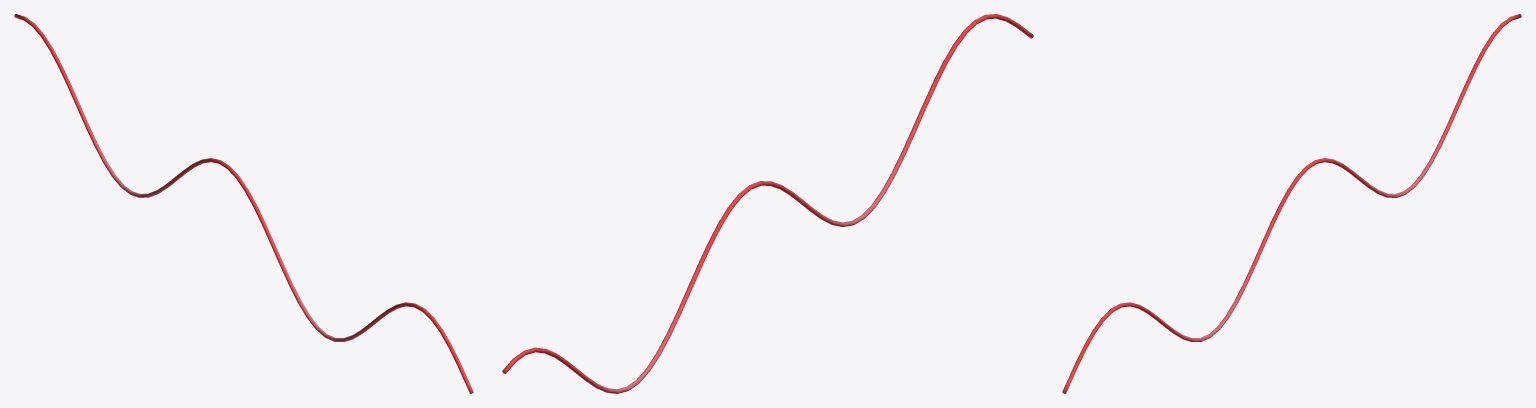
Rendered from Microwaves-final.glb.
3 renders of one model, left to right at view 1: azimuth 30°, elevation 25°; view 2: azimuth 150°, elevation 25°; view 3: azimuth 330°, elevation 25°, orthographic. The views are drawn at different scales.
Parts seen in each view (by area): view 1: Radio.002; view 2: Radio.002; view 3: Radio.002.
Part boxes in pixels (<box>): Radio.002: <box>14,14,473,393</box>; Radio.002: <box>502,14,1033,393</box>; Radio.002: <box>1062,14,1521,393</box>.
Bounding box in the file's own units: 0.0233 × 0.6329 × 5.2.
Materials: 1 (1 with a texture image).
